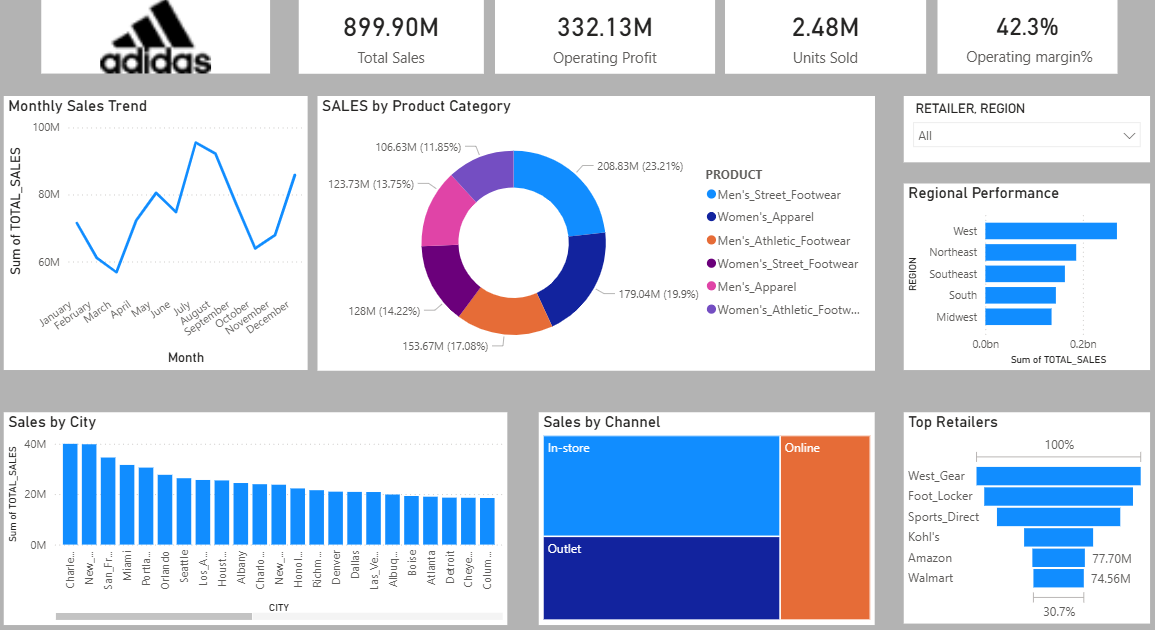

What the dashboard file says about the page in this screenshot:
{"tool":"powerbi","page":{"name":"Page 1","canvas":[1280,720],"ordinal":0},"visuals":[{"type":"card","fields":{"Values":["Sum(Query2.TOTAL_SALES)"]},"box":[333.4,17.8,203.1,83.7],"z":0},{"type":"card","fields":{"Values":["Sum(Query2.OPERATING_PROFIT)"]},"box":[548.4,17.8,241.5,83.7],"z":1},{"type":"card","fields":{"Values":["Sum(Query2.UNITS_SOLD)"]},"box":[801.8,17.8,220.9,83.7],"z":2},{"type":"card","fields":{"Values":["Avg(Query2.OPERATING_MARGIN)"]},"box":[1034.7,17.8,197.6,83.7],"z":3},{"type":"lineChart","title":"Monthly Sales Trend","fields":{"Category":["Query2.INVOICE_DATE.Variation.Date Hierarchy.Year","Query2.INVOICE_DATE.Variation.Date Hierarchy.Quarter","Query2.INVOICE_DATE.Variation.Date Hierarchy.Month","Query2.INVOICE_DATE.Variation.Date Hierarchy.Day"],"Y":["Sum(Query2.TOTAL_SALES)"]},"box":[9.6,126.2,333.4,300.5],"z":4},{"type":"clusteredColumnChart","title":"Sales by City","fields":{"Category":["Query2.CITY"],"Y":["Sum(Query2.TOTAL_SALES)"]},"box":[9.6,473.4,553,233.3],"z":5},{"type":"donutChart","title":"SALES by Product Category","fields":{"Category":["Query2.PRODUCT"],"Y":["Sum(Query2.TOTAL_SALES)"]},"box":[354,126.2,612,301.9],"z":6},{"type":"treemap","title":"Sales by Channel","fields":{"Group":["Query2.SALES_METHOD"],"Values":["Sum(Query2.TOTAL_SALES)"]},"box":[596.9,473.4,369.1,233.3],"z":7},{"type":"slicer","fields":{"Values":["Query2.RETAILER","Query2.REGION"]},"box":[997.6,126.2,270.3,72.7],"z":8},{"type":"clusteredBarChart","title":"Regional Performance","fields":{"Y":["Sum(Query2.TOTAL_SALES)"],"Category":["Query2.REGION"]},"box":[997.6,222.3,270.3,204.5],"z":9},{"type":"funnel","title":"Top Retailers","fields":{"Category":["Query2.RETAILER"],"Y":["Sum(Query2.TOTAL_SALES)"]},"box":[997.6,473.4,270.3,231.9],"z":10},{"type":"image","box":[50.8,19.2,251.1,82.3],"z":11}]}

Visuals, with their boxes in screenshot pixels (x1, y1, x2, y2):
card - Sum(Query2.TOTAL_SALES): detection(307, 1, 488, 76)
card - Sum(Query2.OPERATING_PROFIT): detection(499, 1, 714, 76)
card - Sum(Query2.UNITS_SOLD): detection(725, 1, 922, 76)
card - Avg(Query2.OPERATING_MARGIN): detection(933, 1, 1109, 76)
"Monthly Sales Trend" lineChart: detection(18, 98, 315, 366)
"Sales by City" clusteredColumnChart: detection(18, 408, 511, 616)
"SALES by Product Category" donutChart: detection(325, 98, 871, 367)
"Sales by Channel" treemap: detection(542, 408, 871, 616)
slicer - Query2.RETAILER x Query2.REGION: detection(900, 98, 1141, 163)
"Regional Performance" clusteredBarChart: detection(900, 183, 1141, 366)
"Top Retailers" funnel: detection(900, 408, 1141, 615)
image: detection(54, 2, 279, 76)
